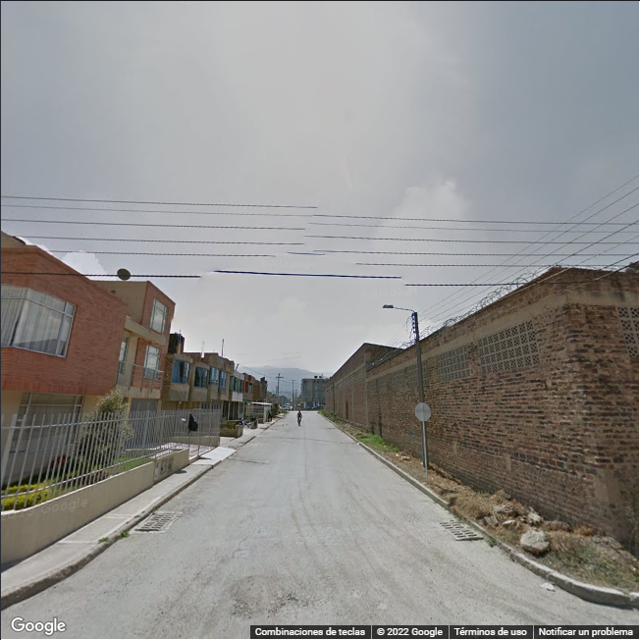D00: (172, 554, 208, 617), (196, 552, 225, 612)
D40: (230, 573, 309, 617)
